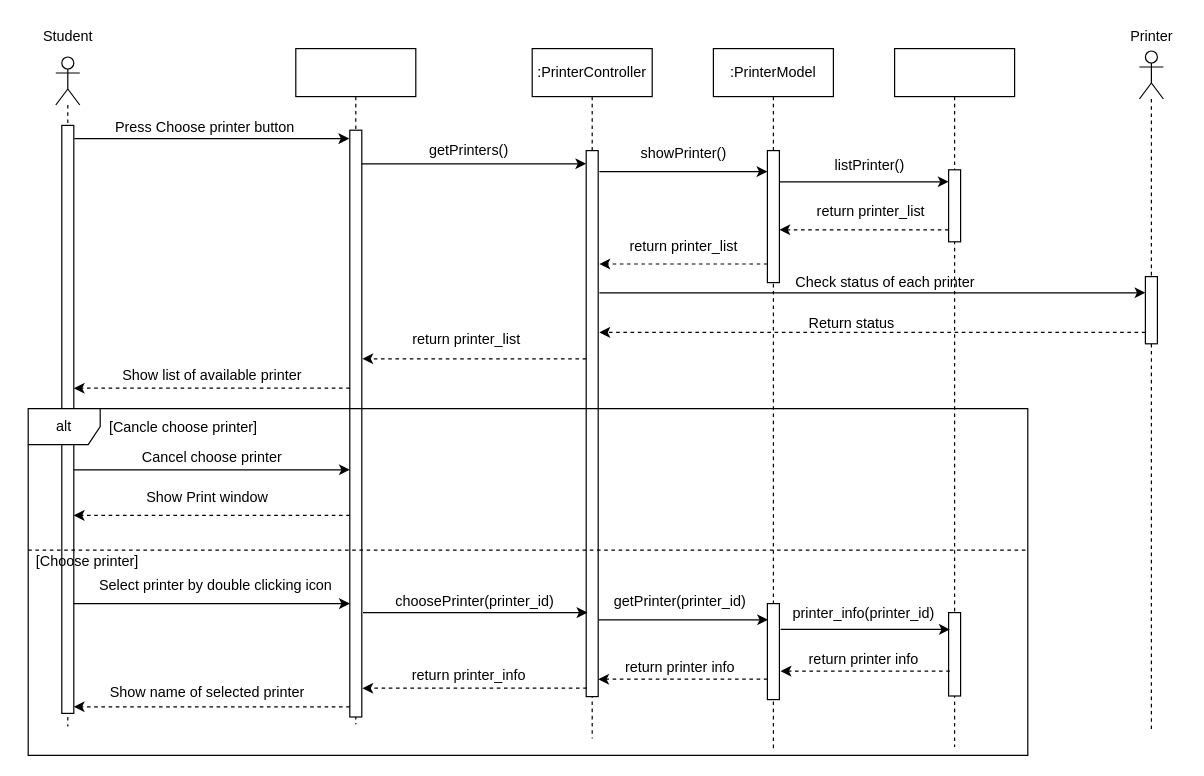
This 1204x776 diagram has some shape labels left out. The shapes that lost their labels are listed below. From the top down, each one's box as (x1, y1, x2, y2) in pixels, then its label:
(295, 47, 416, 724): :StudentView
(893, 47, 1015, 747): :Database
